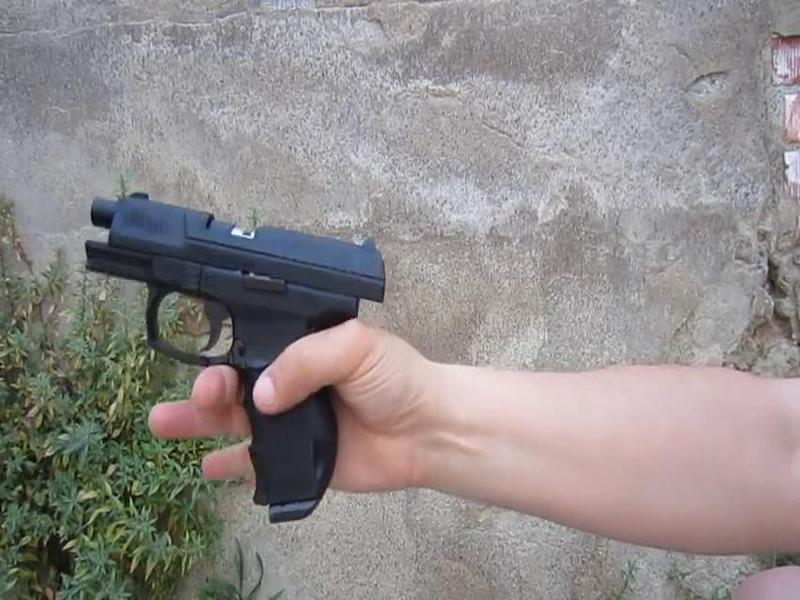Pistola: (81, 178, 386, 534)
